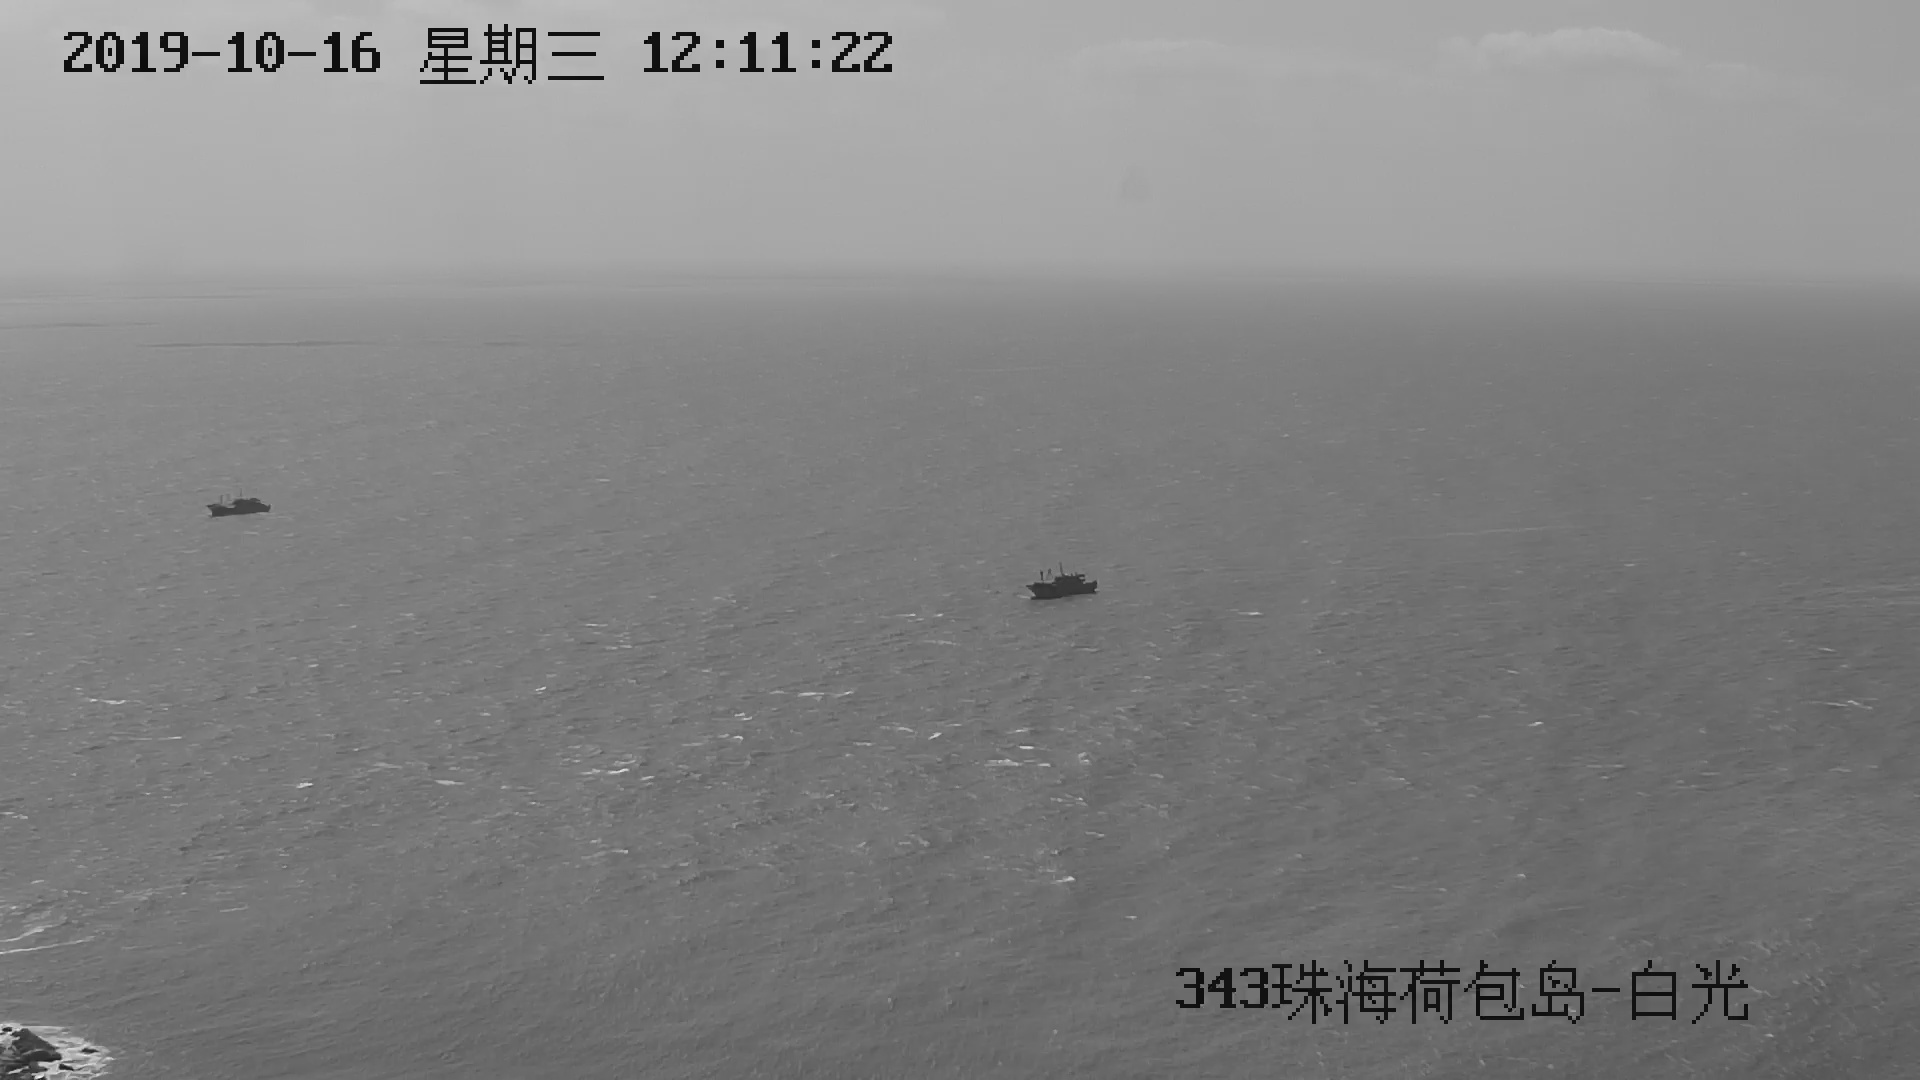ship: (1023, 570, 1100, 600), (207, 489, 276, 522)
